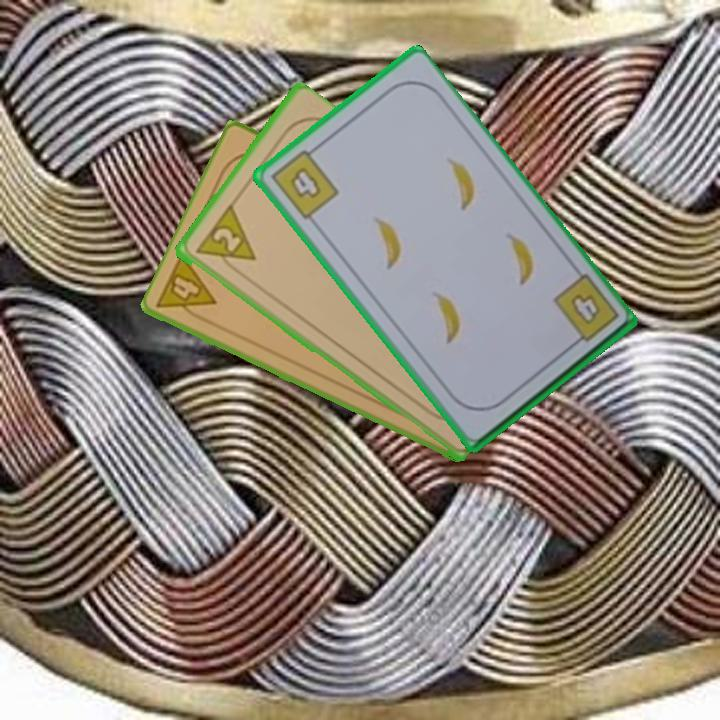2p: (191, 202, 258, 278)
4b: (267, 142, 342, 223), (549, 270, 622, 351)
4p: (153, 249, 220, 328)
